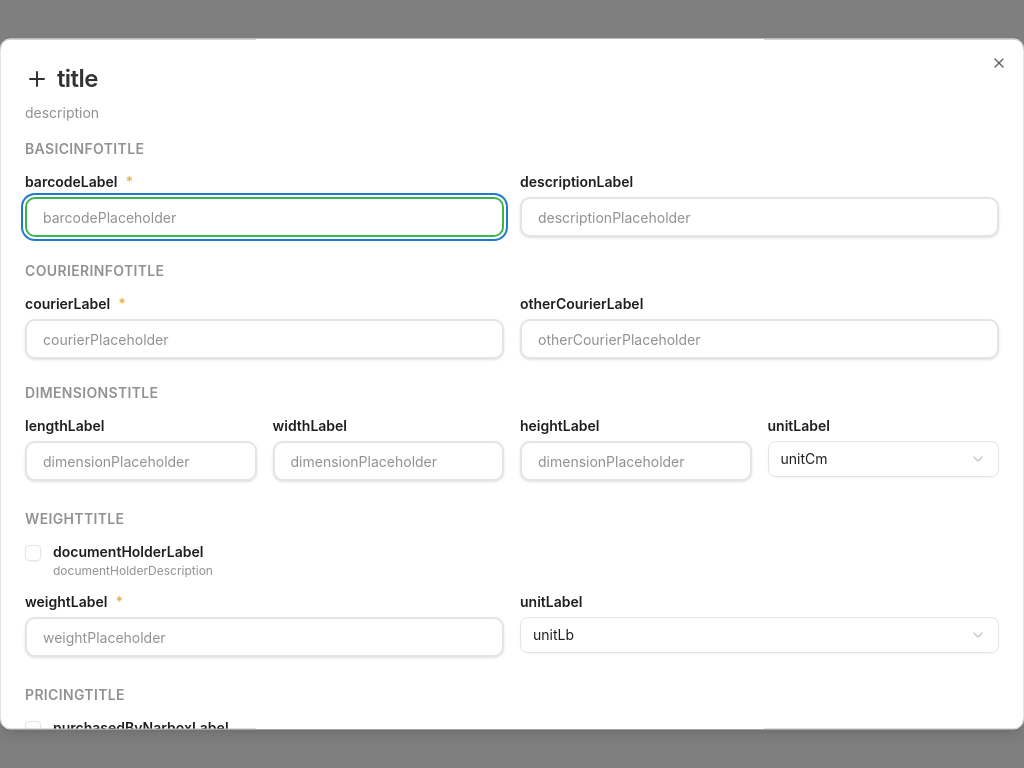
Test: AddPackageDialog › shows validation error when courier is empty on submit
Type "ABC123" into the field labelled "barcodeLabel *".
click(264, 217); type("ABC123")  # box [25,197,504,237]
(page scrolled)
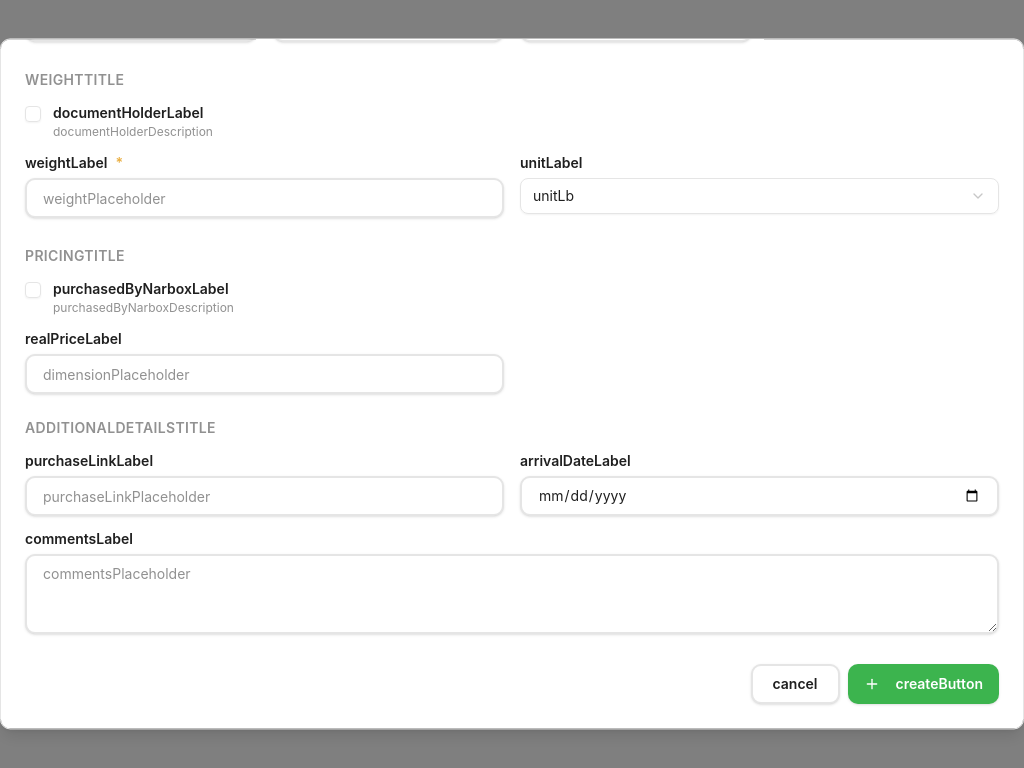
Click the button "createButton".
click(923, 684)  # box [848,664,999,704]
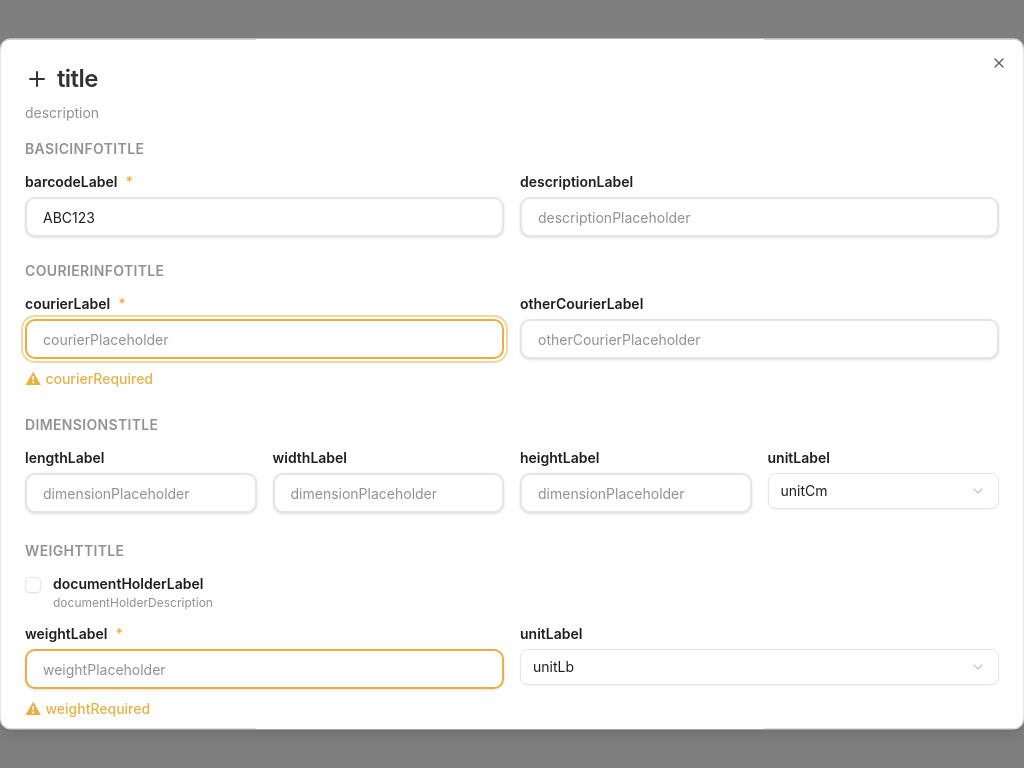
Check: the text "courierRequired" is shown, box [45,370,153,387]
